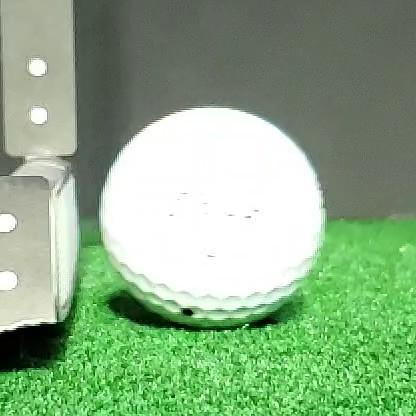golfball: (99, 108, 324, 327)
